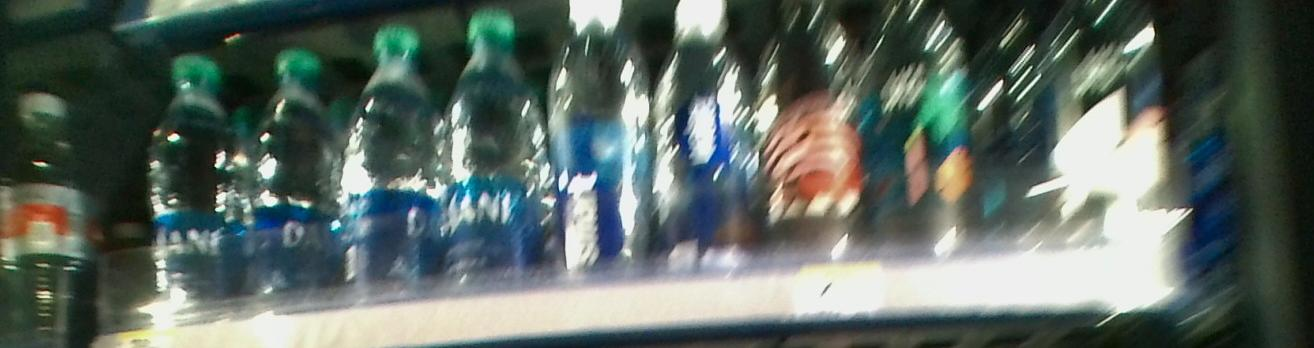bottle: (546, 7, 654, 319), (346, 19, 442, 327), (450, 4, 538, 324), (660, 4, 756, 296), (148, 39, 243, 333), (763, 8, 860, 292), (251, 39, 335, 321)
